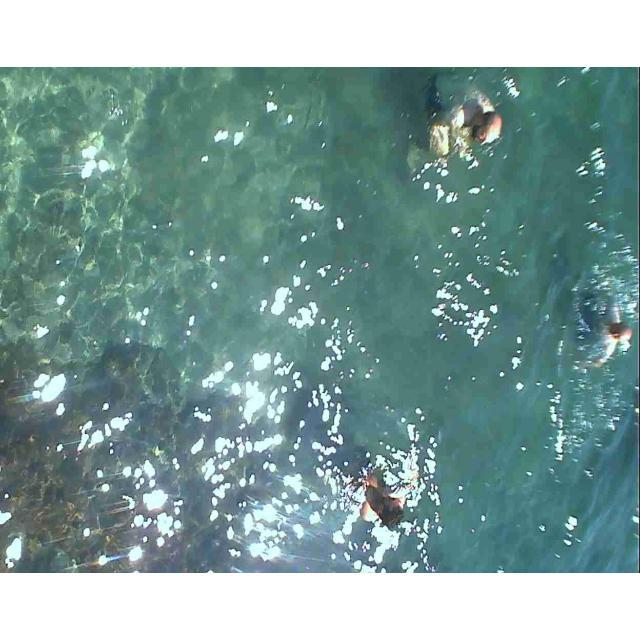human: (424, 67, 496, 174), (572, 270, 636, 388), (361, 440, 432, 534)
